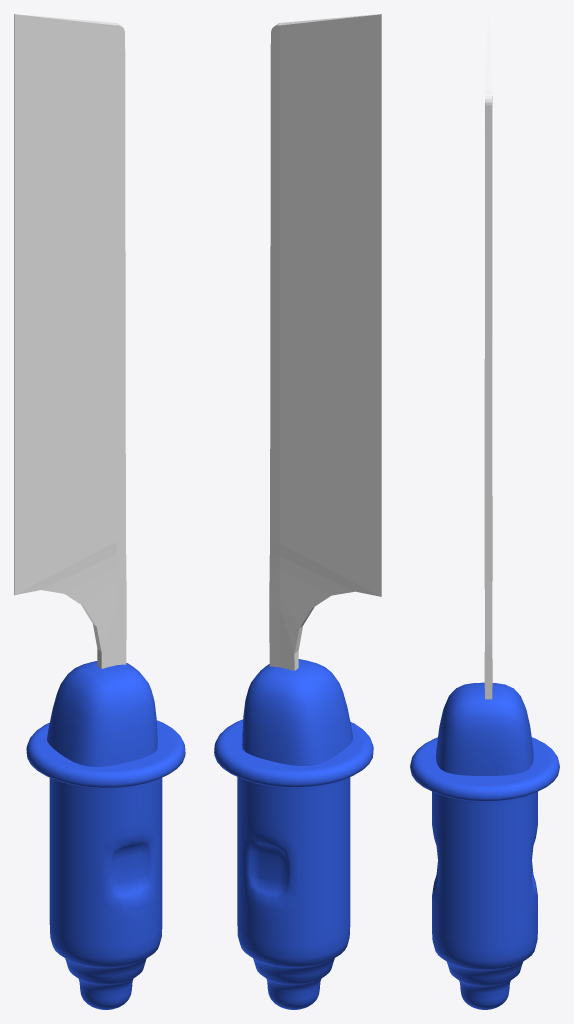
Rendered from Rasoir.glb.
3 renders of one model, left to right at view 1: azimuth 30°, elevation 25°; view 2: azimuth 150°, elevation 25°; view 3: azimuth 270°, elevation 25°, orthographic. The views are drawn at different scales.
Visible parts, largest first — view 1: AttacheBrosse.002; view 2: AttacheBrosse.002; view 3: AttacheBrosse.002.
Part boxes in pixels (<box>): AttacheBrosse.002: <box>14,14,185,1009</box>; AttacheBrosse.002: <box>214,14,381,1009</box>; AttacheBrosse.002: <box>410,14,559,1009</box>.
Size of the model in its own units: 0.5079 by 3.1 by 0.4427.
